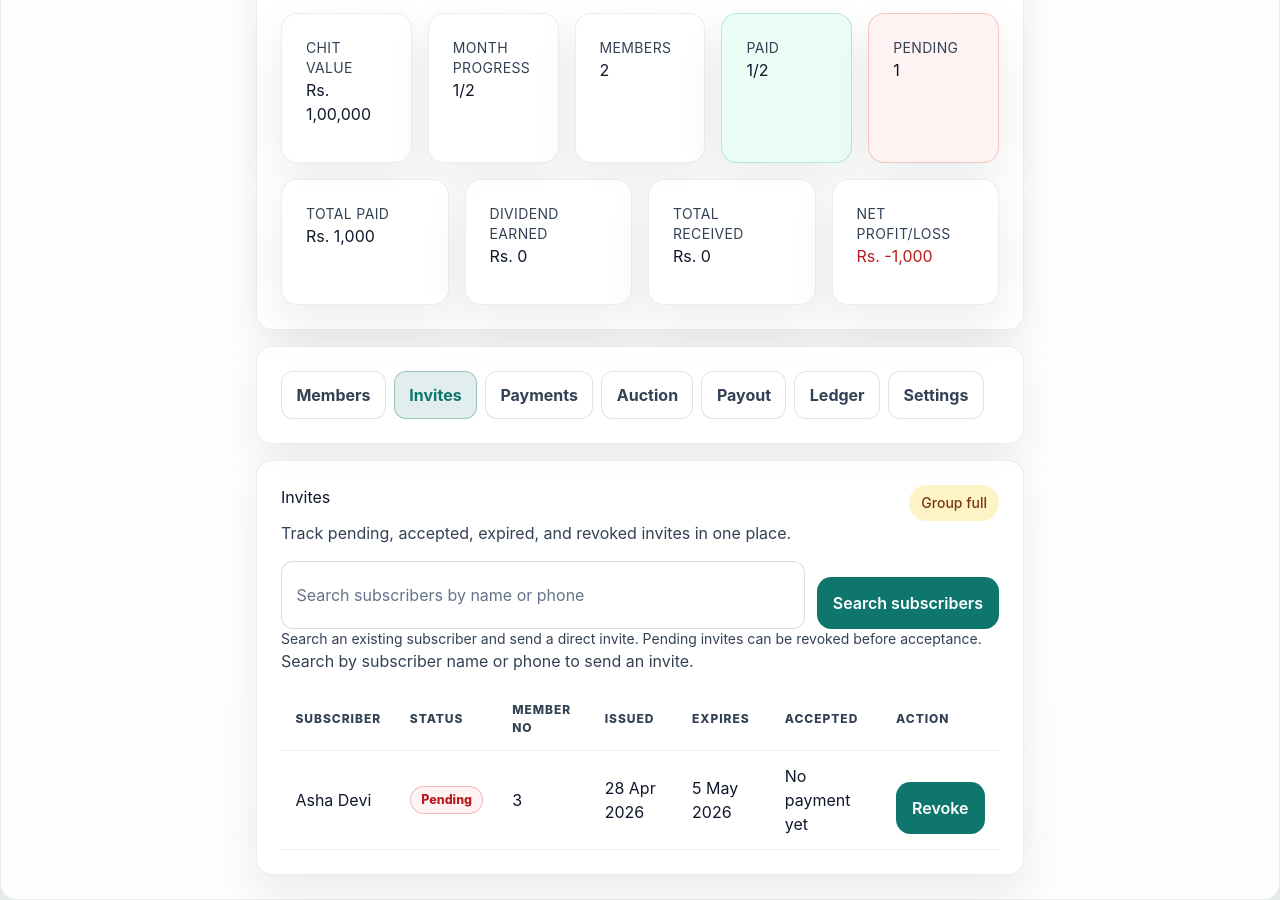
Scenario: lists and revokes a pending invite from the invites tab
(page scrolled)
Check: the text "Asha Devi" is shown, box [281,751,396,849]
Click the button "Revoke": (940, 808) [896,782,985,834]
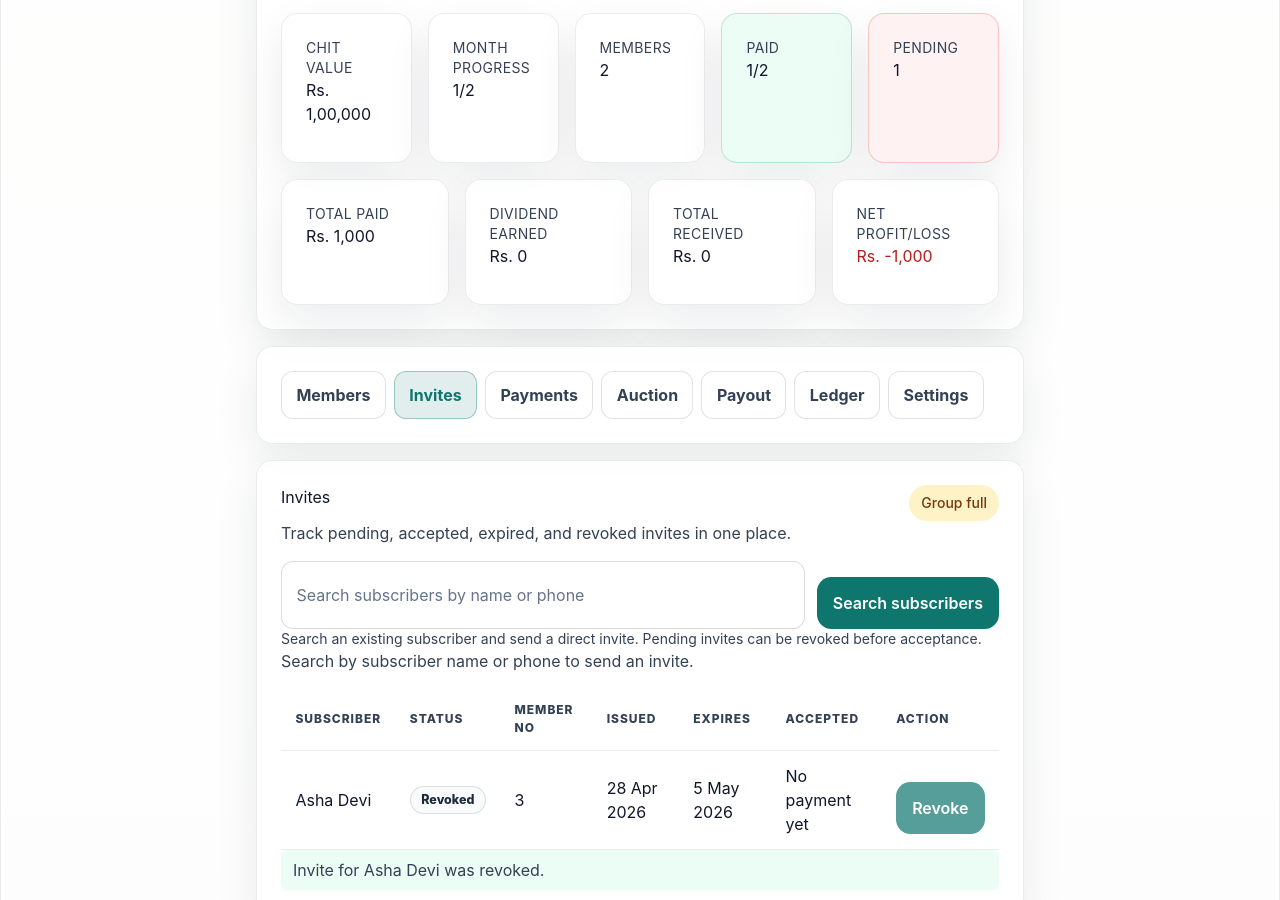
Check: the text "Invite for Asha Devi was revoked." is shown, box [281,850,999,890]
Check: the text "Revoked" is shown, box [410,786,486,814]
